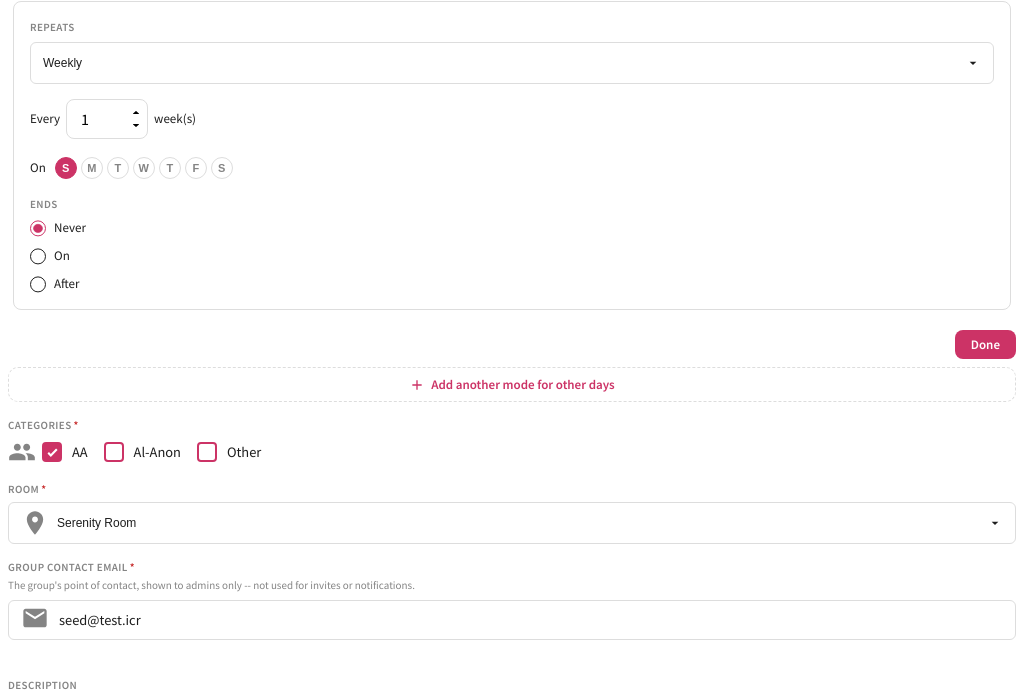
Scenario: EditMeetingSidebar adding a linked schedule › guards the panel's close against a composed-but-unsaved schedule
The width and height of the screenshot is (1024, 691).
(page scrolled)
Click the button "Add another mode for other days": (512, 385) [8,367,1016,402]
(page scrolled)
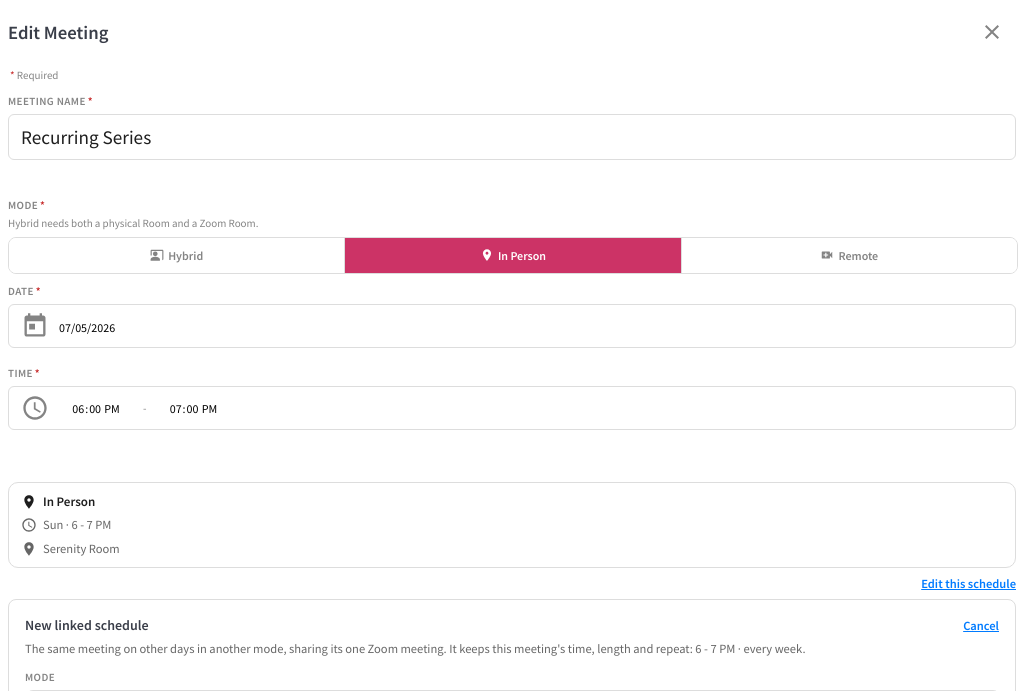
Click the button named "Close": (992, 32) [968,8,1016,56]
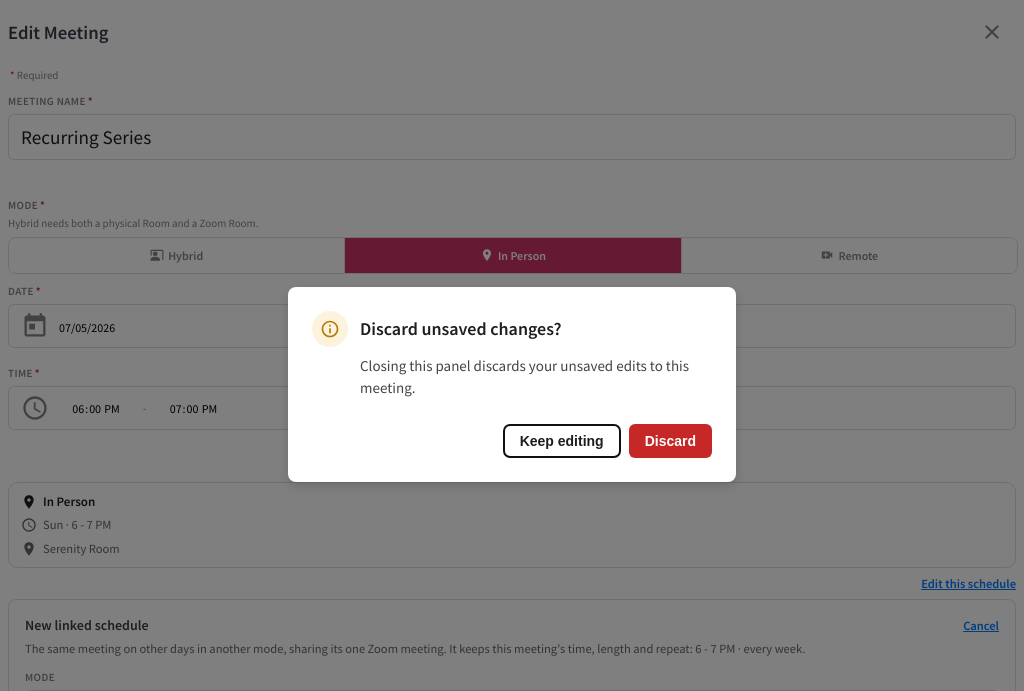
Now the heading "Discard unsaved changes?" is shown, box [360,317,562,340]
